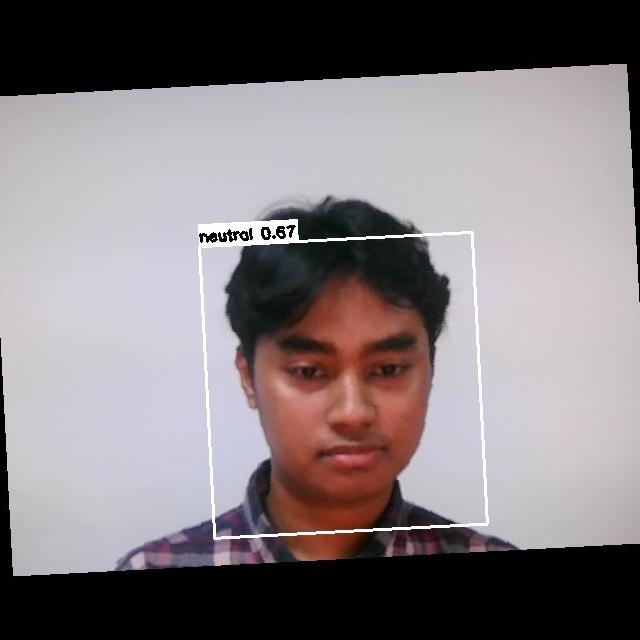Natural: (263, 321, 443, 490)
